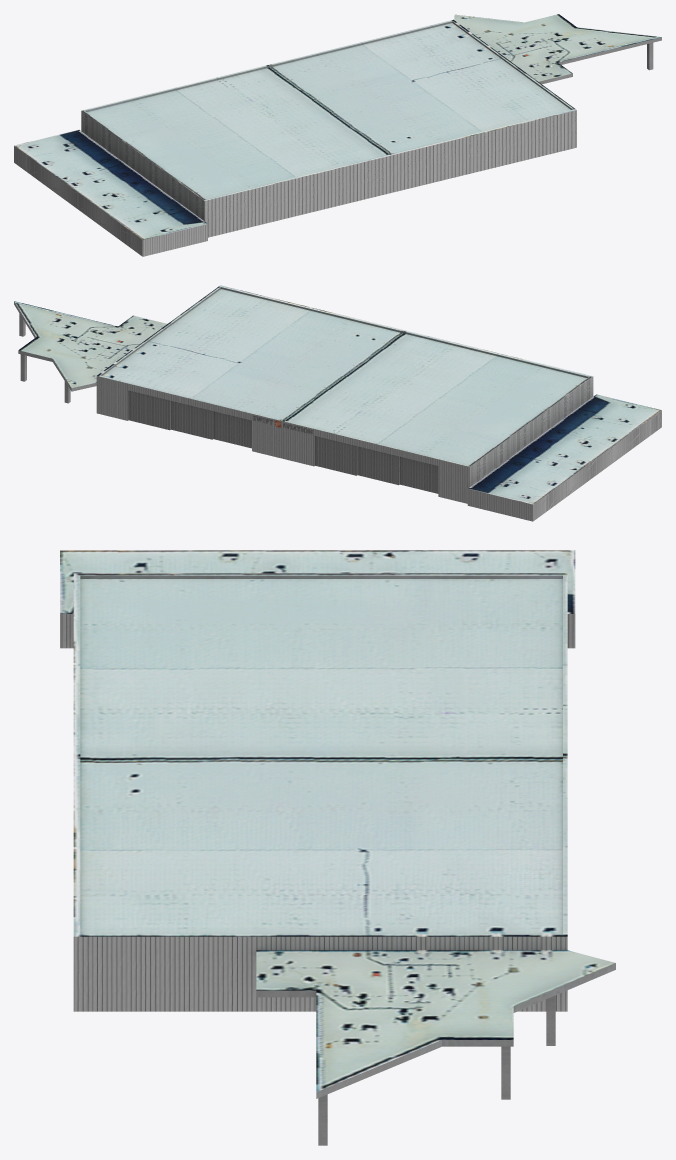
File: Hangar4.gltf
3 renders of one model, top to bottom at view 1: azimuth 30°, elevation 25°; view 2: azimuth 150°, elevation 25°; view 3: azimuth 270°, elevation 25°, orthographic. The views are drawn at different scales.
Visible parts, largest first — view 1: Hangar4; view 2: Hangar4; view 3: Hangar4.
Boxes of the visible parts, box(x1,y1,x2,y2) form: Hangar4: box(14, 14, 661, 256); Hangar4: box(14, 285, 661, 521); Hangar4: box(60, 550, 615, 1145).
Bounding box in the file's own units: 179 × 11 × 73.86.
1 material, 1 textured.
